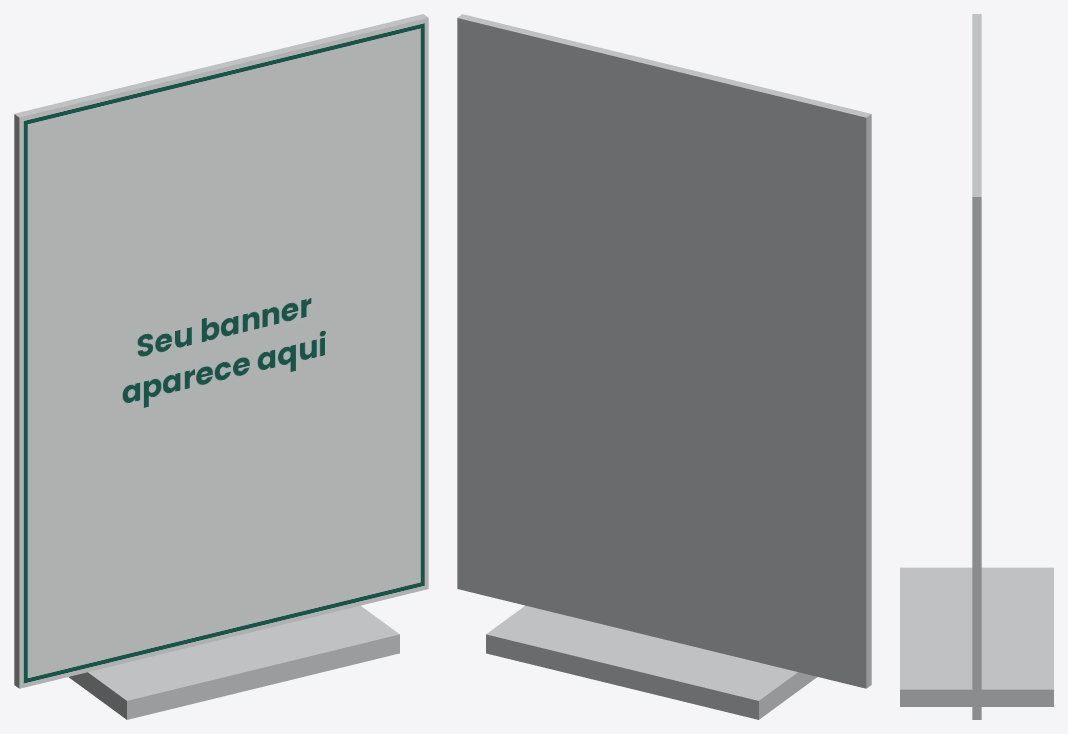
File: banner-aluno.glb
The picture shows the model from 3 angles, left to right: view 1: azimuth 30°, elevation 25°; view 2: azimuth 150°, elevation 25°; view 3: azimuth 270°, elevation 25°; orthographic projection. The views are drawn at different scales.
Visible parts, largest first — view 1: banner_90x120cm; view 2: banner_90x120cm; view 3: banner_90x120cm.
Part boxes in pixels (x1,y1,x2,y2): banner_90x120cm: [14, 14, 428, 719]; banner_90x120cm: [457, 14, 871, 719]; banner_90x120cm: [900, 14, 1053, 719].
Bounding box in the file's own units: 0.9 × 1.24 × 0.32.
Materials: 2 (1 with a texture image).
